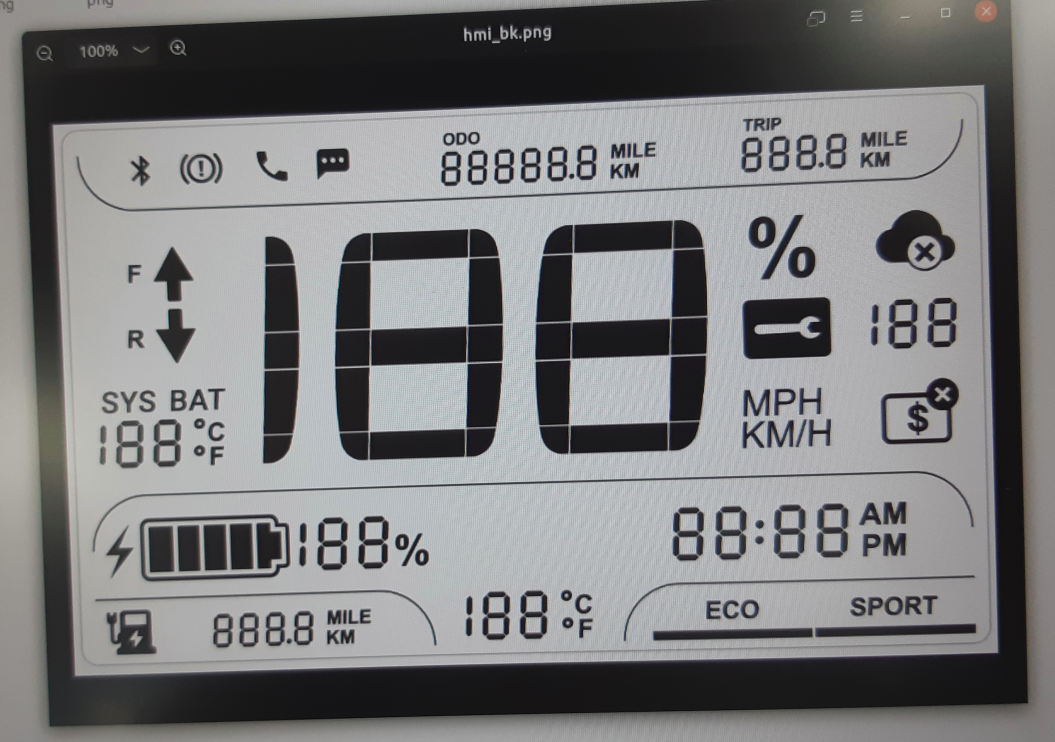bluetooth_on: (128, 152, 154, 191)
braking_on: (176, 149, 224, 188)
calling_on: (251, 147, 293, 185)
connection_lost: (871, 207, 958, 275)
error_code: (737, 294, 836, 362)
low_battery: (102, 605, 160, 659)
sms_on: (312, 146, 352, 182)
vin_id: (877, 375, 963, 449)
